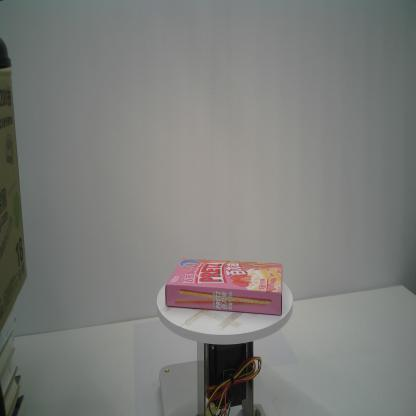Dessert: (165, 258, 284, 316)
